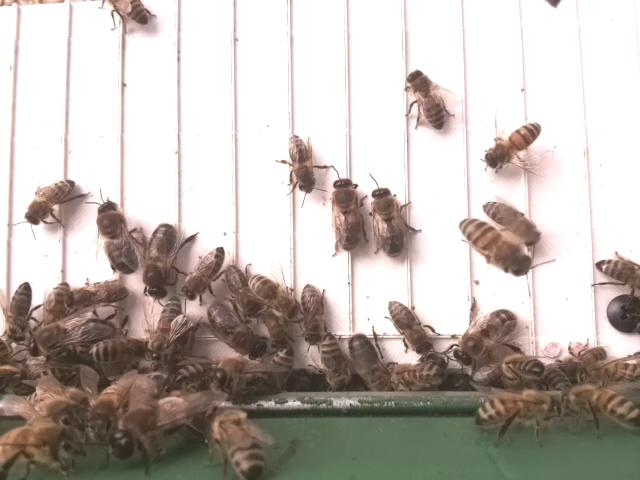Drone: (24, 311, 116, 358), (204, 302, 269, 361), (94, 198, 141, 277), (454, 307, 515, 367), (142, 220, 180, 302), (328, 174, 365, 256), (370, 185, 408, 258), (347, 329, 389, 391)
Worker: (457, 216, 531, 275), (474, 390, 560, 425), (480, 197, 540, 246), (484, 119, 542, 168), (406, 67, 449, 131), (22, 178, 78, 227), (386, 298, 435, 352), (247, 273, 304, 319), (182, 245, 229, 300), (63, 278, 132, 312), (221, 263, 260, 319), (0, 281, 34, 344), (153, 296, 186, 359), (286, 132, 319, 194), (89, 335, 149, 367), (298, 279, 327, 343), (320, 330, 349, 389), (592, 255, 640, 288)
